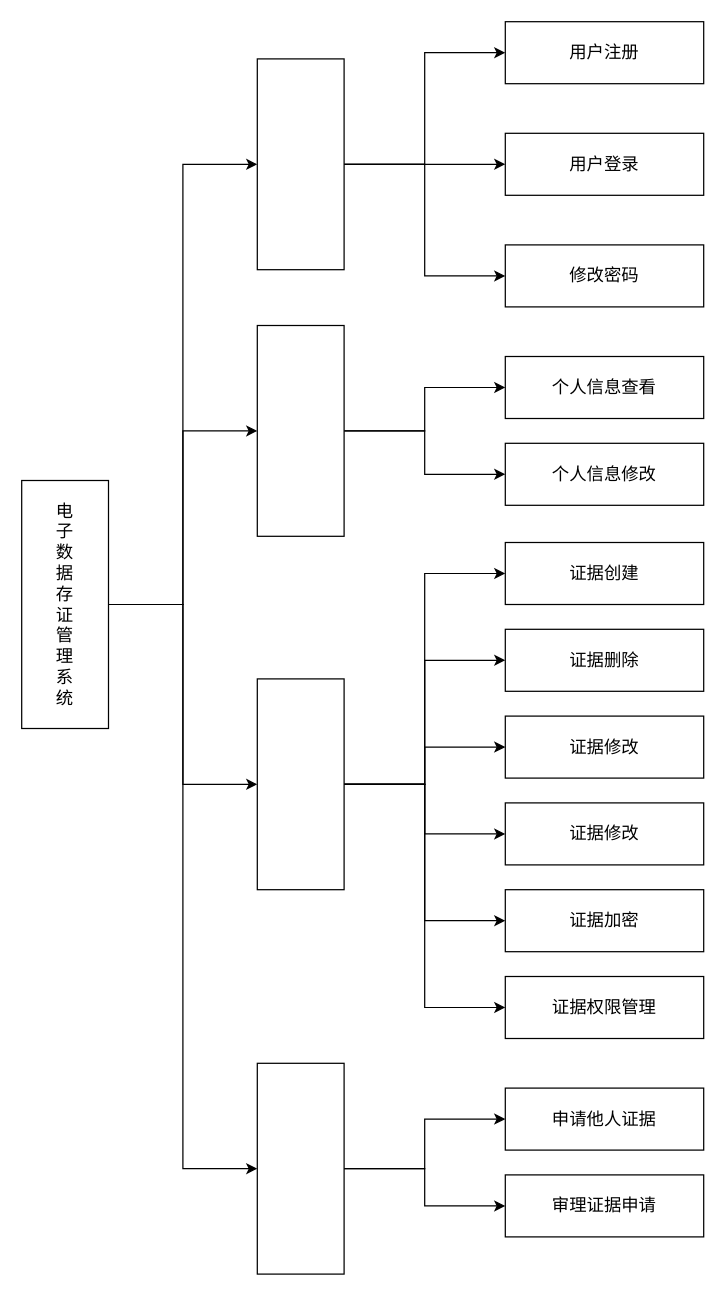
Image size: 725x1296. Some labels were removed from this diagram. Here are the shapes that lost their labels. From the top down, the centre of each, then its label:
At (x=300, y=164): "登 录 模 块".
At (x=300, y=430): "个 人 信 息 管 理 模 块".
At (x=300, y=784): "证 据 管 理 模 块".
At (x=300, y=1168): "证据分享模块".
